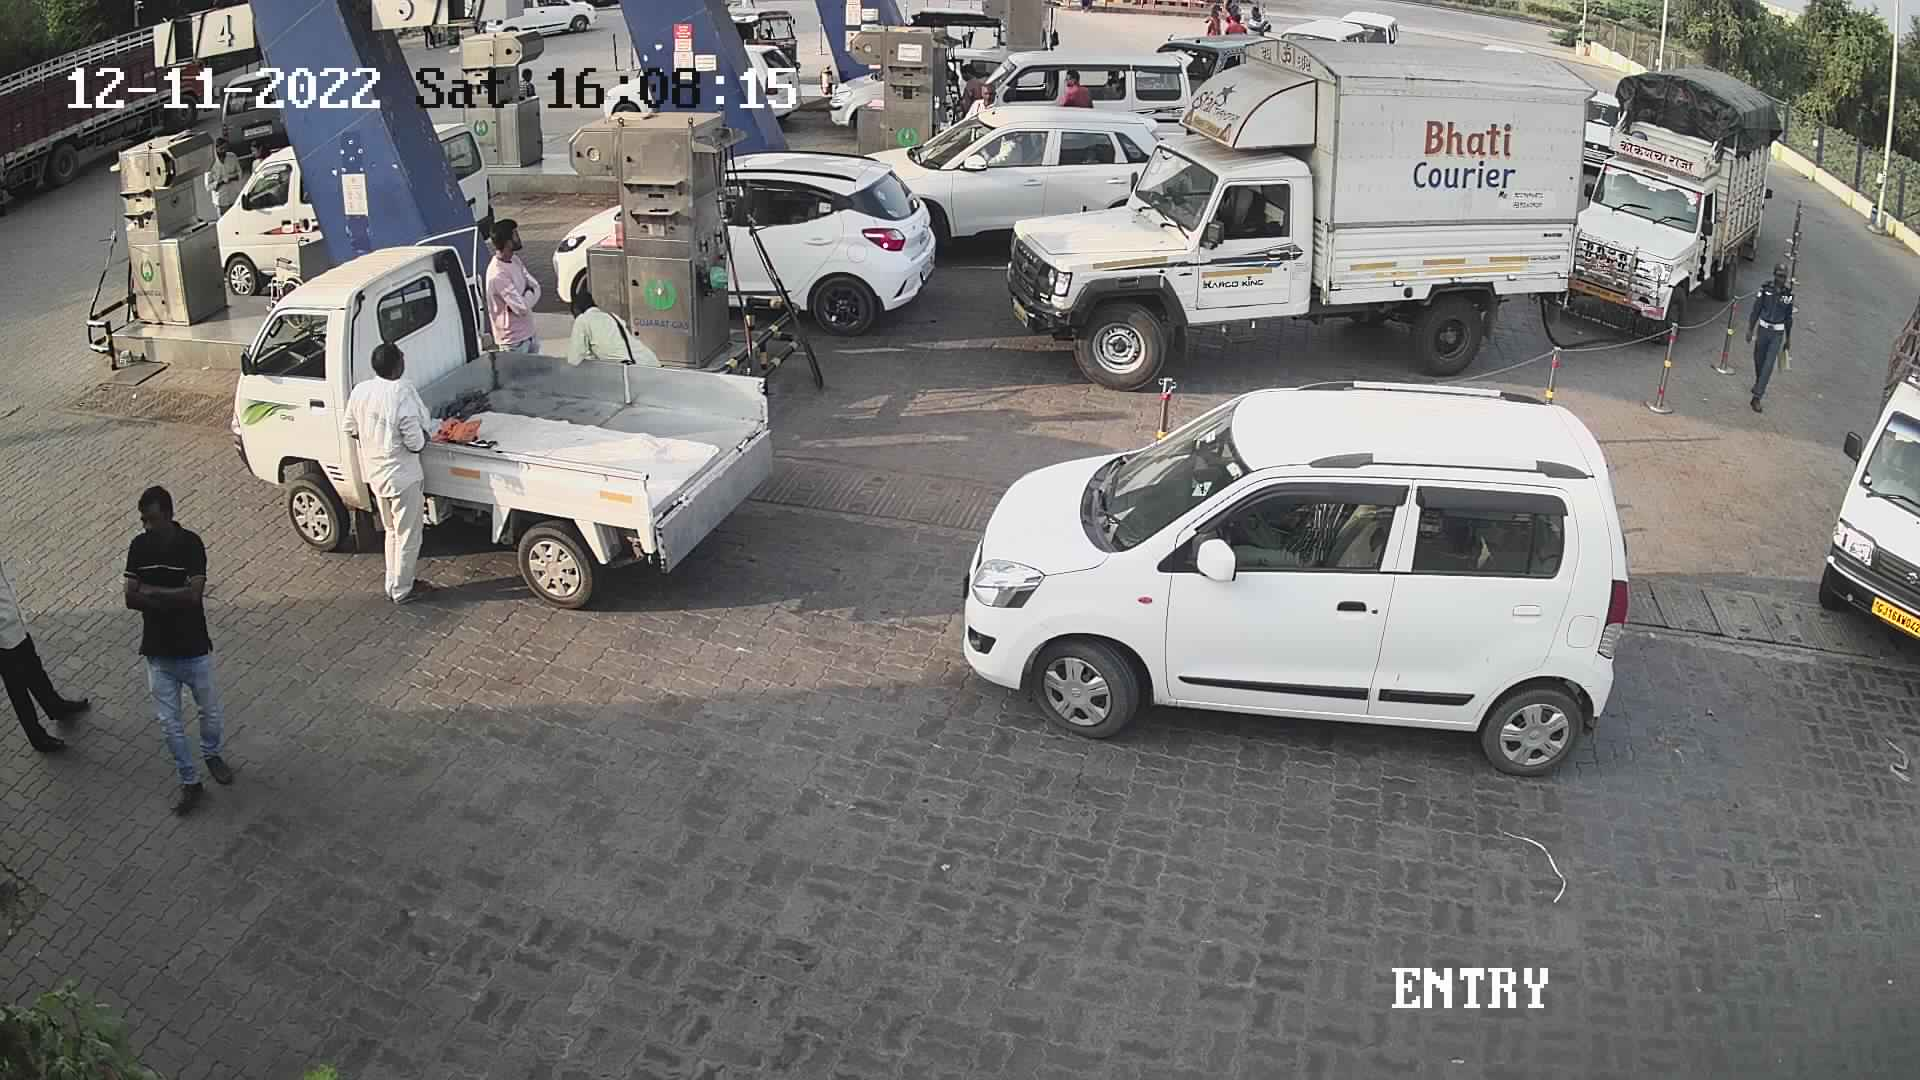Car: (961, 377, 1652, 798), (225, 219, 782, 617), (996, 26, 1592, 386), (1563, 57, 1793, 351), (858, 100, 1175, 269), (705, 140, 947, 347), (1811, 272, 1920, 690), (934, 40, 1199, 146), (204, 137, 330, 306), (204, 57, 295, 187), (1145, 20, 1280, 102), (473, 0, 603, 53), (1568, 76, 1627, 177), (588, 62, 662, 128), (1259, 13, 1369, 53), (1337, 5, 1408, 50)
HMV: (5, 0, 229, 247)
